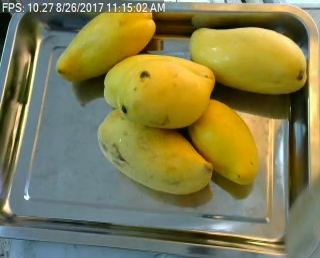Mango: (97, 110, 214, 192), (188, 26, 308, 91), (57, 4, 156, 82), (102, 53, 216, 115), (186, 99, 258, 185), (117, 63, 215, 126)
